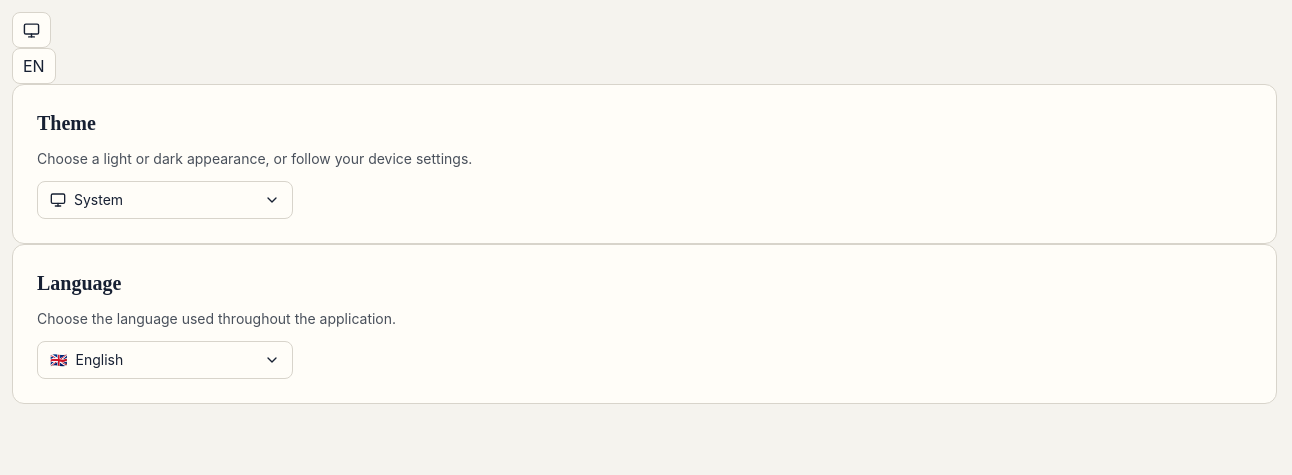
Test: shares sanitized account failure feedback and explicitly retries the latest choice
This screenshot has width=1292, height=475.
Click the button named "Theme: System. Change theme" at [32, 30], box [12,12,51,48]
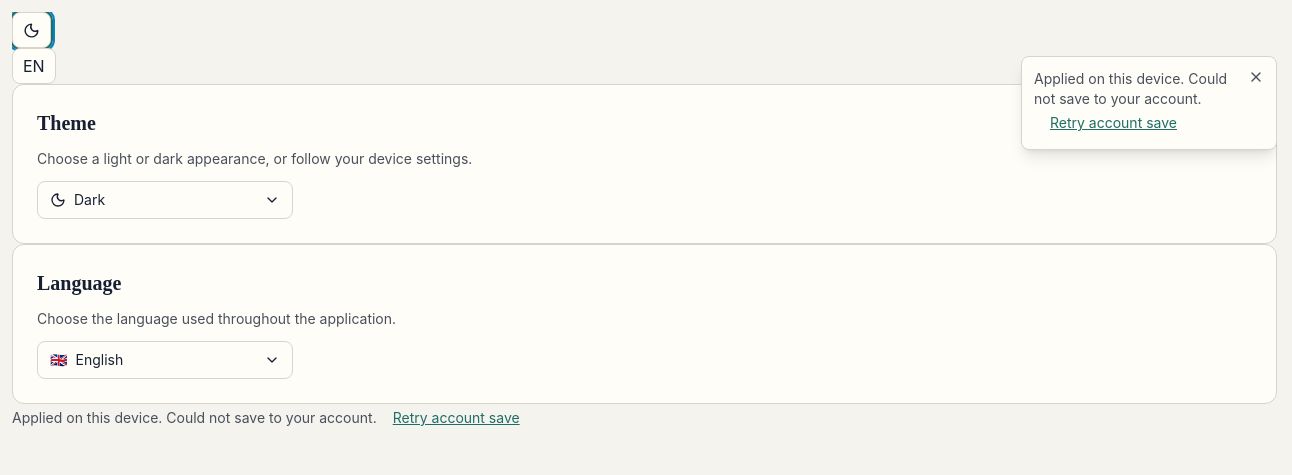
Expected: the text "Applied on this device. Could not save to your account." is shown 2 times, [1034,69,1240,137]; [12,404,528,432]
Click the button named "Theme: Dark. Change theme" at [32, 30], box [12,12,51,48]
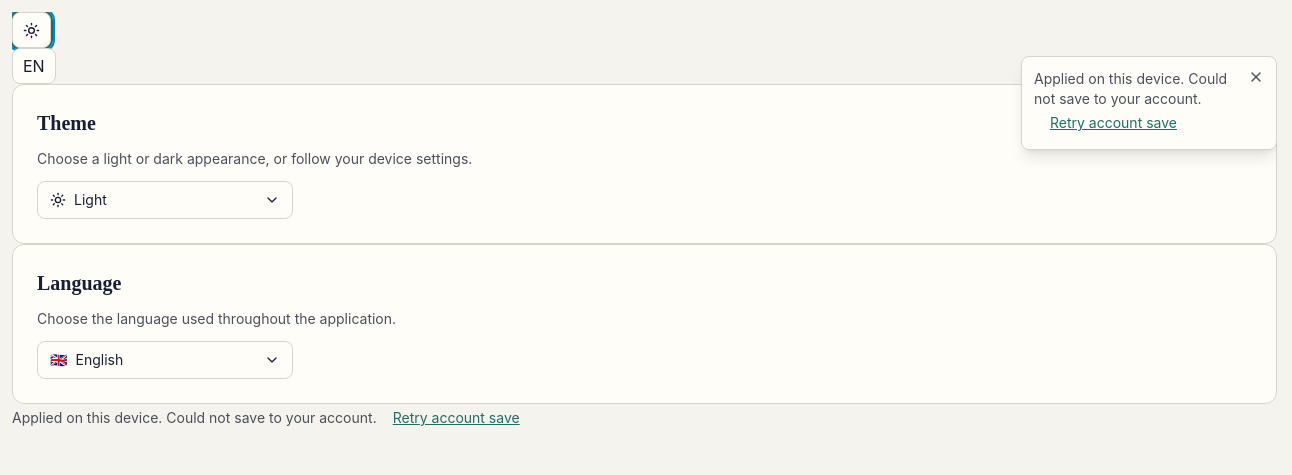
Click the 2nd button "Retry account save" at [456, 418], box [385,404,528,432]
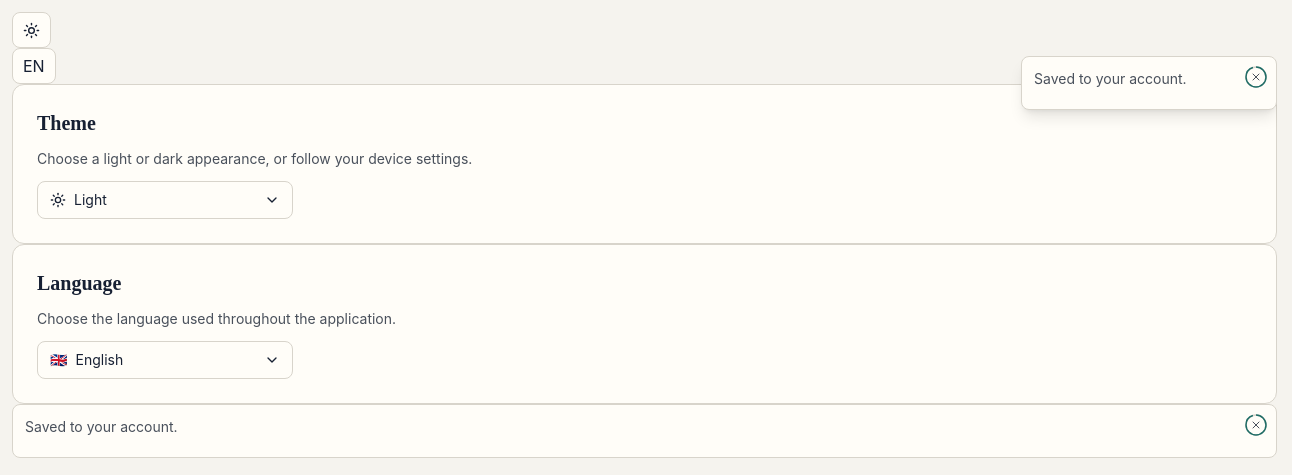
Expected: the text "Saved to your account." is shown 2 times, [1034,70,1187,87]; [25,418,178,435]
